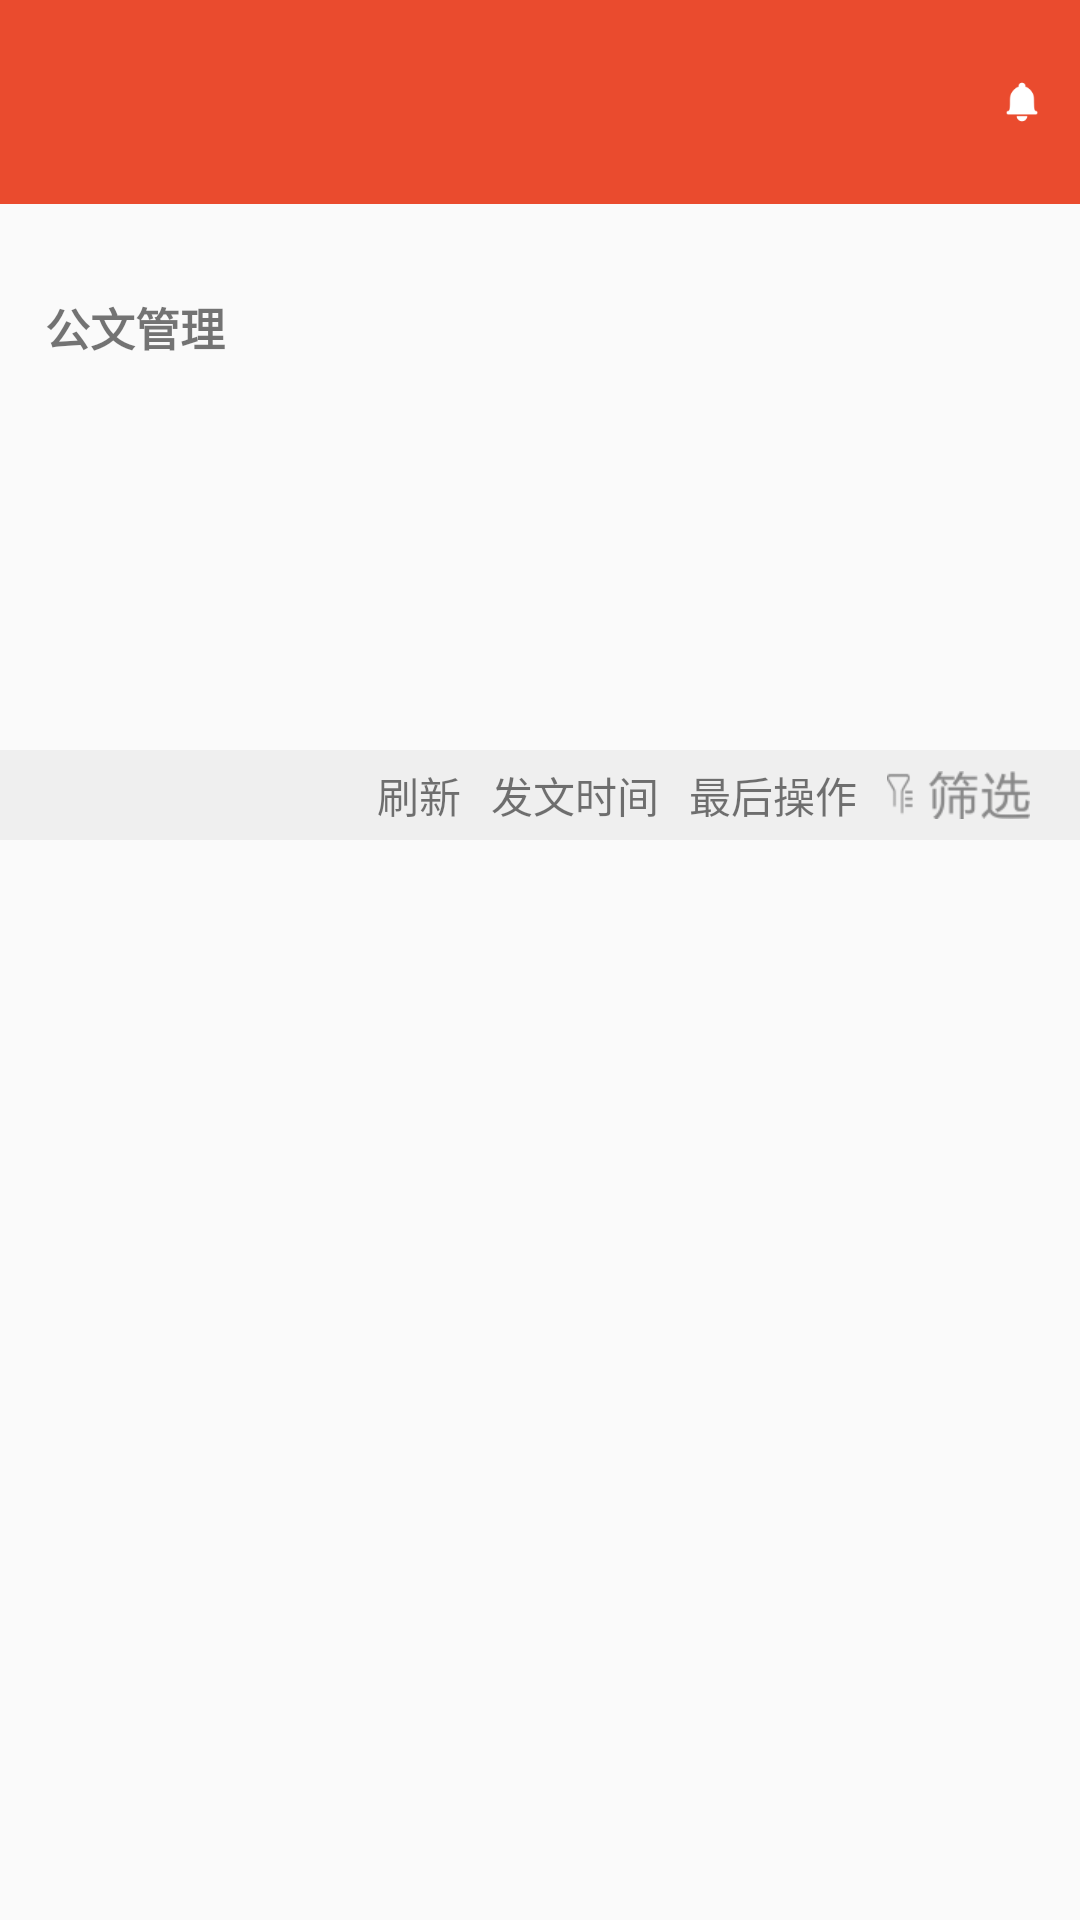

Named icons in this screenshot (1080 x 1920) and their bounding boxes, (left=x1, top=y1, right=x2, bottom=y2):
notice: (left=1006, top=82, right=1038, bottom=122)
